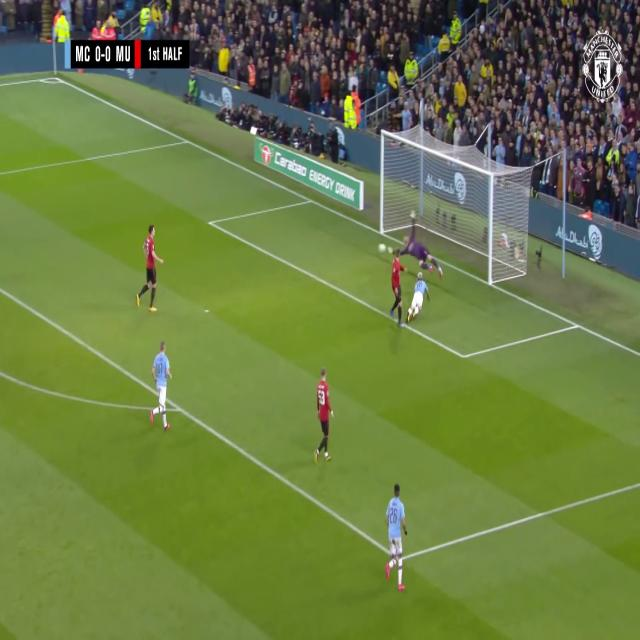ball: (378, 238, 388, 258)
team1: (137, 225, 163, 315), (314, 369, 332, 461), (391, 254, 406, 324)
team2: (384, 486, 407, 591), (152, 342, 173, 432), (408, 272, 431, 321)
